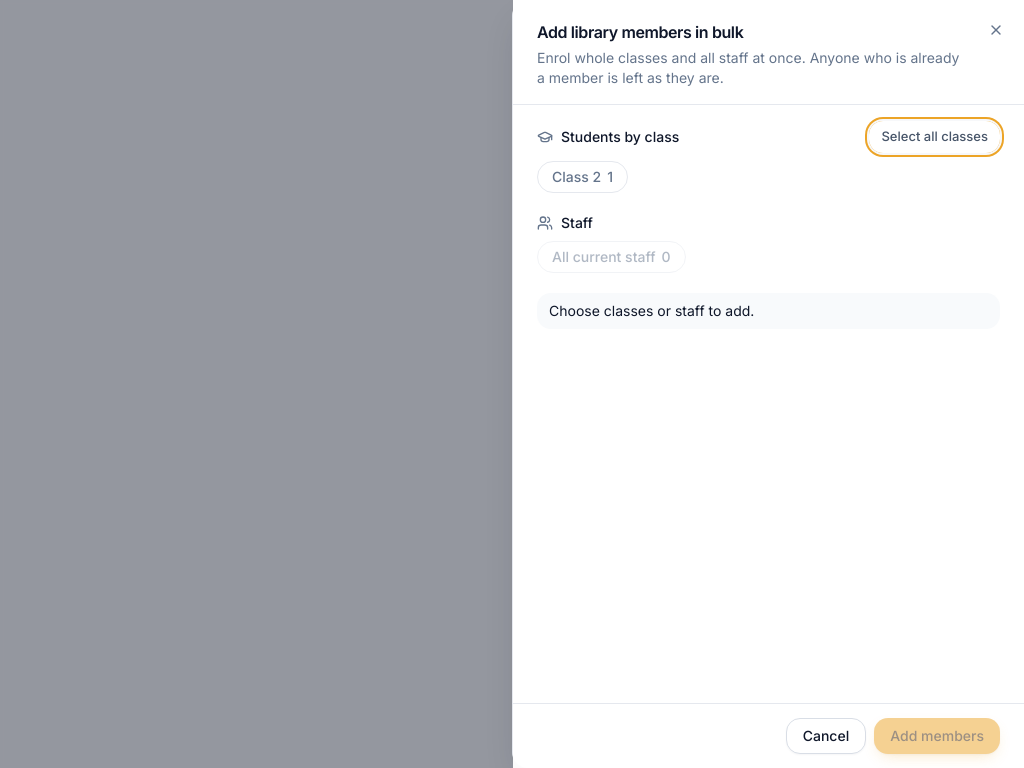
Test case: BulkMembersDialog › says so when everyone chosen is already a member
Click the button "Class 2 1".
click(582, 177)  # box 537,161 -> 628,193
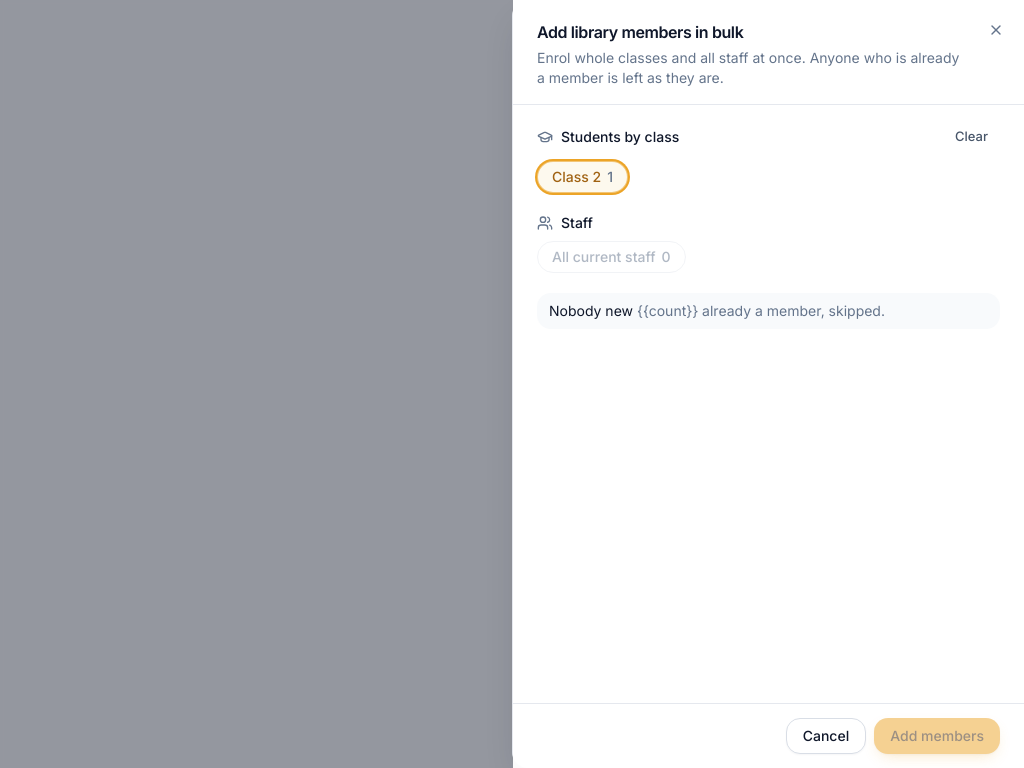
Expected: the button "Add members" is disabled, 874,718 -> 1000,754
Expected: the message shows "Nobody new", 549,302 -> 633,319
